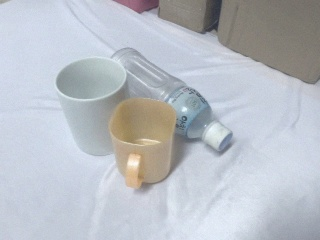bottle: (111, 47, 234, 152)
box: (158, 1, 225, 33)
cup: (54, 57, 130, 157), (108, 97, 177, 190)
